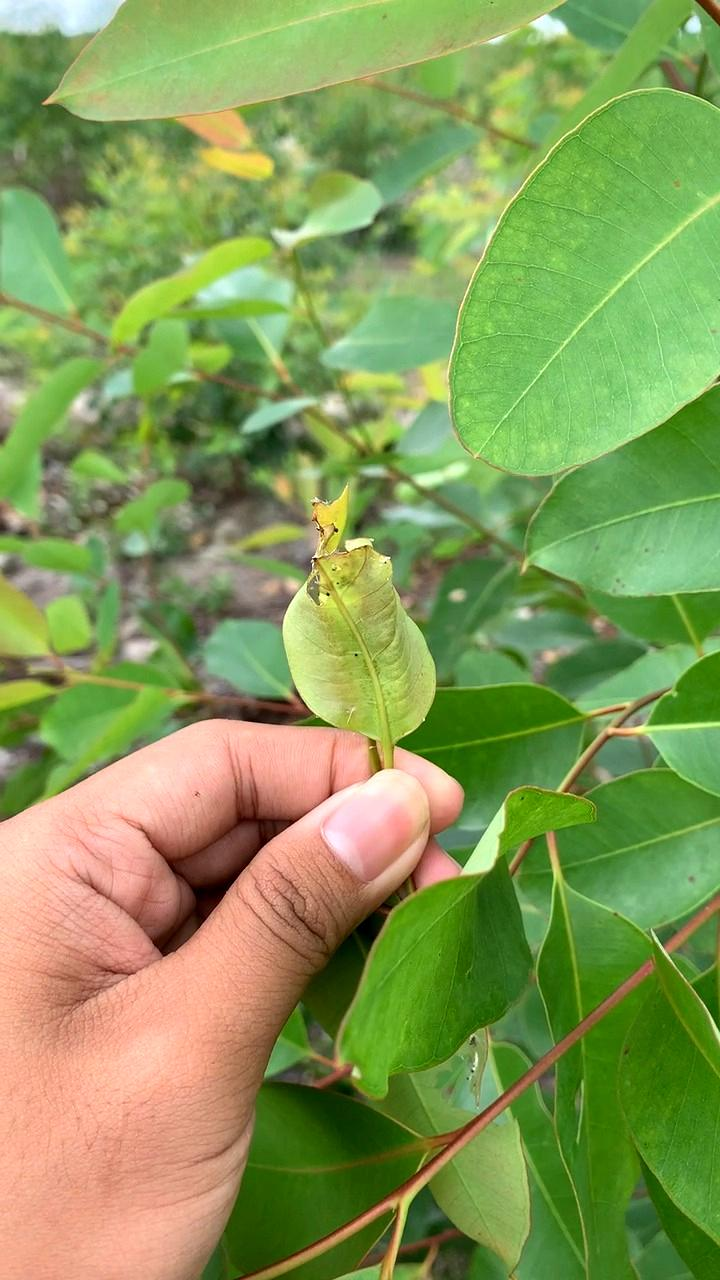Leaf Roller - Leaf: (283, 473, 443, 747)
